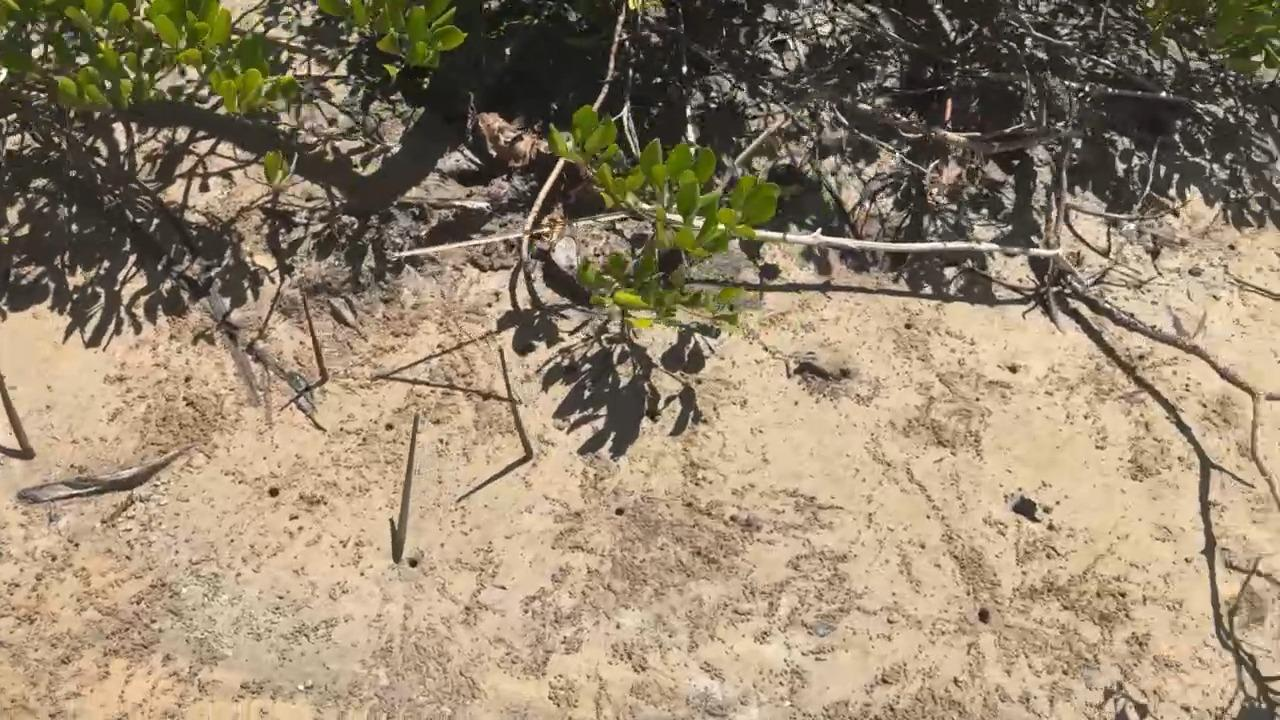Tree: (407, 264, 527, 404), (498, 345, 535, 462), (394, 411, 418, 564), (0, 369, 37, 461), (301, 292, 330, 383)
